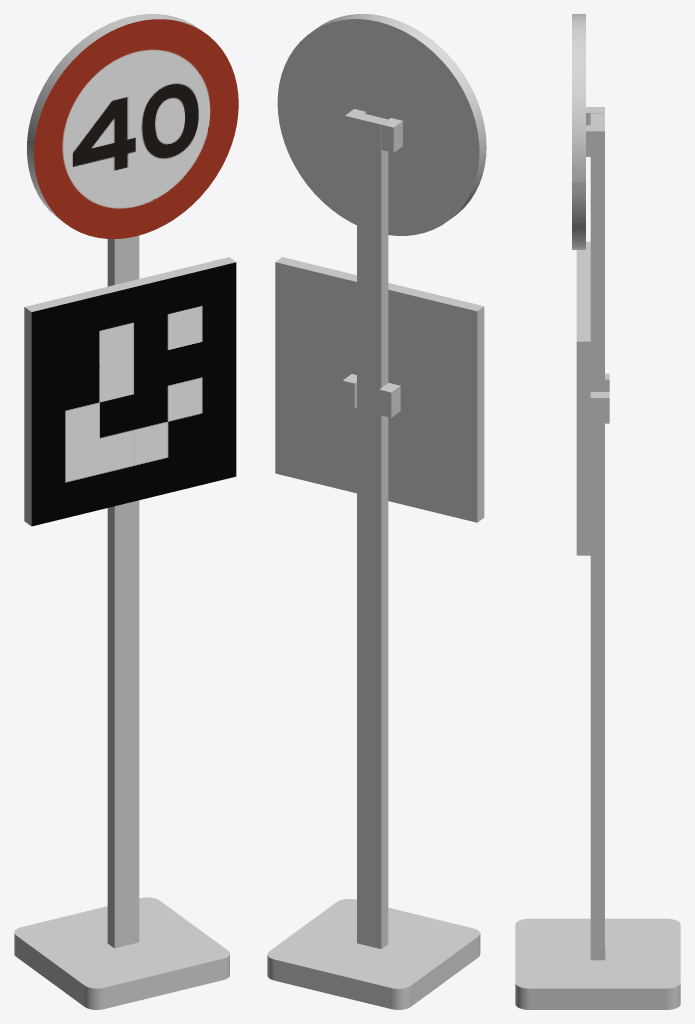
File: velo40_aruco.dae
3 views of the same model, side by side, from view 1: azimuth 30°, elevation 25°; view 2: azimuth 150°, elevation 25°; view 3: azimuth 270°, elevation 25° (orthographic).
Visible parts, largest first — view 1: eeb66508-69ad-4924-bd29-f0b31ba0200c, a5b1aac6-c40c-48d5-bf8d-8dc8c4a63e02, a8240a3d-1d84-4d8c-82fc-732aec825ce9, e4e45f4f-891e-496b-b28a-91ce24f7e008, a3fd0ed3-9b91-4034-af38-a1796fadadb0, aa9e8915-c565-4236-9edf-ed530bce94cd, afa95f7e-4193-4f76-89fb-8c79f52f9379; view 2: e55170f9-9c86-4362-8ebb-4542e6bc3c9e, d2396287-1457-44da-b2dc-832beee59eed, a8240a3d-1d84-4d8c-82fc-732aec825ce9, e4e45f4f-891e-496b-b28a-91ce24f7e008, a3fd0ed3-9b91-4034-af38-a1796fadadb0, aa9e8915-c565-4236-9edf-ed530bce94cd, afa95f7e-4193-4f76-89fb-8c79f52f9379, a41978a5-50d5-405c-8e0e-993f9b79ffe8, adff3646-e163-4af6-b7d0-72c57f9a1af0; view 3: e4e45f4f-891e-496b-b28a-91ce24f7e008, a8240a3d-1d84-4d8c-82fc-732aec825ce9, a3fd0ed3-9b91-4034-af38-a1796fadadb0, ae948297-cf1f-463e-a121-e1283785e3c1, afa95f7e-4193-4f76-89fb-8c79f52f9379, a9b76f5c-fb81-4eee-94d8-7cc9c8bee803, a775c7b5-50c4-4700-adf4-b49c0b05c313.
Part boxes in pixels (x1,y1,x2,y2): eeb66508-69ad-4924-bd29-f0b31ba0200c: (31,262,236,526); a5b1aac6-c40c-48d5-bf8d-8dc8c4a63e02: (34,19,238,238); a8240a3d-1d84-4d8c-82fc-732aec825ce9: (107,235,139,948); e4e45f4f-891e-496b-b28a-91ce24f7e008: (14,897,229,1009); a3fd0ed3-9b91-4034-af38-a1796fadadb0: (26,14,227,221); aa9e8915-c565-4236-9edf-ed530bce94cd: (24,307,31,526); afa95f7e-4193-4f76-89fb-8c79f52f9379: (25,257,235,311); e55170f9-9c86-4362-8ebb-4542e6bc3c9e: (275,262,477,522); d2396287-1457-44da-b2dc-832beee59eed: (277,19,479,235); a8240a3d-1d84-4d8c-82fc-732aec825ce9: (357,113,388,949); e4e45f4f-891e-496b-b28a-91ce24f7e008: (267,899,480,1009); a3fd0ed3-9b91-4034-af38-a1796fadadb0: (312,14,486,218); aa9e8915-c565-4236-9edf-ed530bce94cd: (477,306,484,522); afa95f7e-4193-4f76-89fb-8c79f52f9379: (275,257,483,311); a41978a5-50d5-405c-8e0e-993f9b79ffe8: (379,383,400,417); adff3646-e163-4af6-b7d0-72c57f9a1af0: (381,118,402,152); e4e45f4f-891e-496b-b28a-91ce24f7e008: (515,918,680,1009); a8240a3d-1d84-4d8c-82fc-732aec825ce9: (590,113,604,960); a3fd0ed3-9b91-4034-af38-a1796fadadb0: (572,14,585,249); ae948297-cf1f-463e-a121-e1283785e3c1: (576,341,590,555); afa95f7e-4193-4f76-89fb-8c79f52f9379: (576,241,590,341); a9b76f5c-fb81-4eee-94d8-7cc9c8bee803: (590,392,609,423); a775c7b5-50c4-4700-adf4-b49c0b05c313: (586,125,604,156).
Size of the model in its own units: 0.05 by 0.035 by 0.222.
2 materials, 2 textured.
